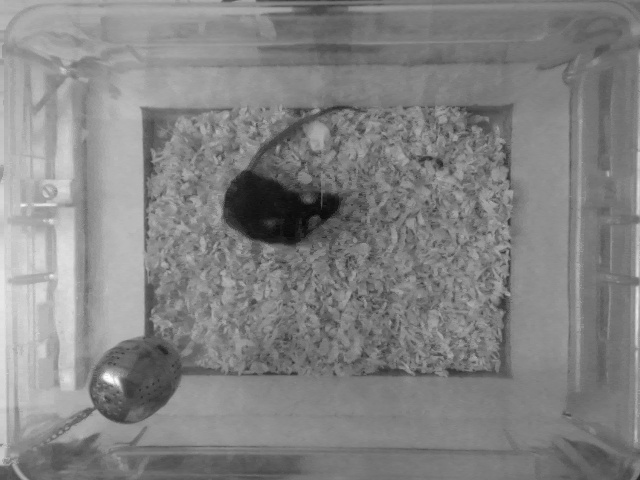mice: (218, 101, 365, 251)
